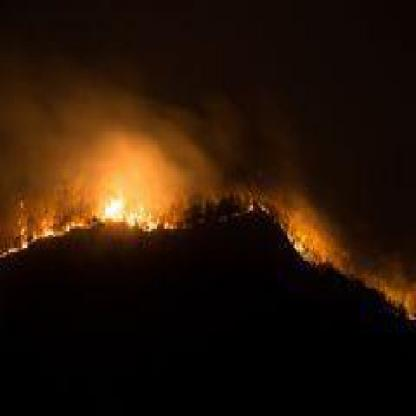fire: (76, 167, 192, 231), (290, 206, 340, 266), (375, 268, 411, 314)
